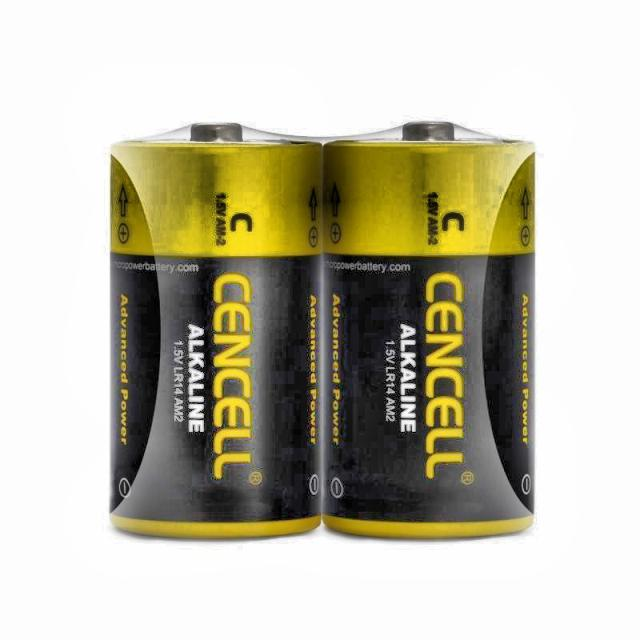Non-Valuable Waste - Batteries: (322, 122, 535, 537), (110, 124, 322, 537)
